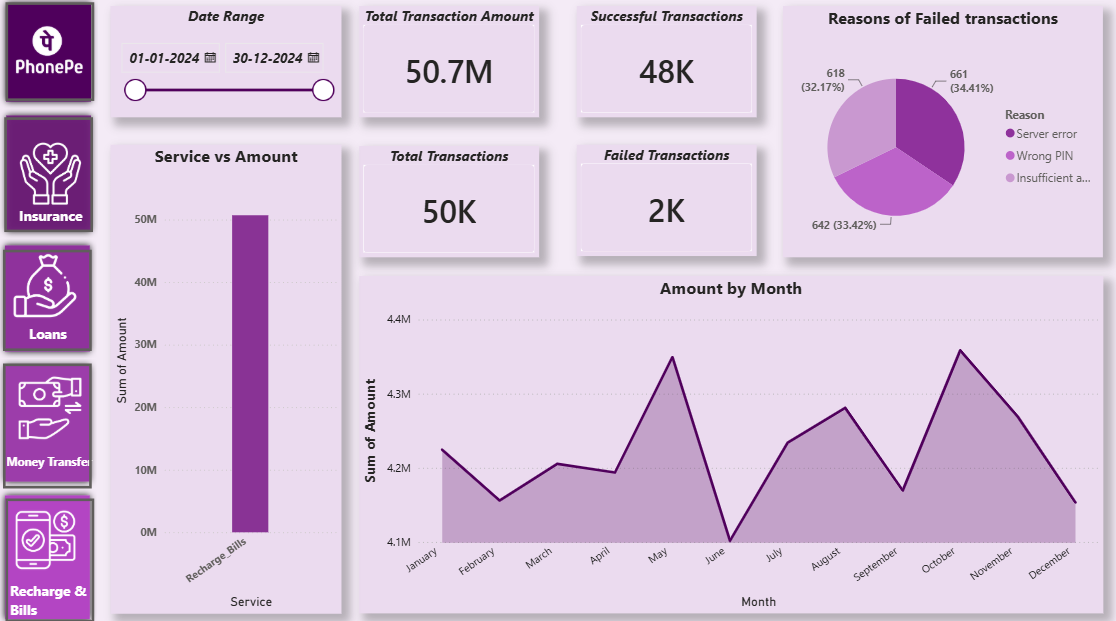

What the dashboard file says about the page in this screenshot:
{"tool":"powerbi","page":{"name":"Home","canvas":[1280,720],"ordinal":0},"visuals":[{"type":"shape","box":[1.4,0,112.9,128.6],"z":0,"group":"g4"},{"type":"slicer","title":"Date Range","fields":{"Values":["All_Transactions.Date"]},"box":[128.6,11.4,264.3,127.1],"z":0},{"type":"cardVisual","title":"Total Transaction Amount","fields":{"Data":["Sum(All_Transactions.Amount)"]},"box":[412.9,11.4,205.7,127.1],"z":1000},{"type":"shape","box":[1.4,128.6,112.9,148.6],"z":1000,"group":"g1"},{"type":"cardVisual","title":"Total Transactions","fields":{"Data":["Count(All_Transactions.Transaction_ID)"]},"box":[412.9,171.4,205.7,127.1],"z":2000},{"type":"shape","box":[0,277.1,112.9,137.1],"z":2000,"group":"g2"},{"type":"cardVisual","title":"Successful Transactions","fields":{"Data":["Count(All_Transactions.Transaction_ID)"]},"box":[661.4,11.4,205.7,127.1],"z":3000},{"type":"shape","box":[0,414.3,112.9,148.6],"z":3000,"group":"g5"},{"type":"cardVisual","title":"Failed Transactions","fields":{"Data":["Count(All_Transactions.Transaction_ID)"]},"box":[661.4,170,205.7,127.1],"z":4000},{"type":"shape","box":[0,562.9,112.9,157.1],"z":4000,"group":"g3"},{"type":"pieChart","title":"Reasons of Failed transactions","fields":{"Category":["All_Transactions.Reason"],"Y":["CountNonNull(All_Transactions.Reason)"]},"box":[897.1,11.4,365.7,287.1],"z":5000},{"type":"image","box":[17.1,152.9,85.7,100],"z":5000,"group":"g1"},{"type":"image","box":[14.3,290,81.4,80],"z":6000,"group":"g2"},{"type":"lineChart","title":"Amount by Month","fields":{"Category":["All_Transactions.Date.Variation.Date Hierarchy.Month"],"Y":["Sum(All_Transactions.Amount)"]},"box":[412.9,320,850,385.7],"z":6000},{"type":"group","id":"g1","title":"Group 1","box":[1.4,128.6,150,148.6],"z":7000},{"type":"image","box":[14.3,580,80,82.9],"z":7000,"group":"g3"},{"type":"image","box":[17.7,7.8,82.2,112.2],"z":8000,"group":"g4"},{"type":"group","id":"g2","title":"Group 2","box":[0,277.1,167.1,137.1],"z":8000},{"type":"group","id":"g3","title":"Group 4","box":[0,170,392.9,550],"z":9000},{"type":"image","box":[18.6,427.1,81.4,87.1],"z":9000,"group":"g5"},{"type":"group","id":"g4","title":"Group 5","box":[1.4,0,112.9,128.6],"z":10000},{"type":"textbox","box":[1.4,234.3,150,35.7],"z":10000,"group":"g1"},{"type":"actionButton","box":[7.1,138.6,101.4,131.4],"z":11000},{"type":"textbox","box":[8.6,662.9,101.4,52.9],"z":11000,"group":"g3"},{"type":"actionButton","box":[5.7,290,101.4,115.7],"z":12000},{"type":"textbox","box":[0,514.3,167.1,35.7],"z":12000,"group":"g5"},{"type":"textbox","box":[17.1,370,150,35.7],"z":13000,"group":"g2"},{"type":"actionButton","box":[5.7,420,101.4,142.9],"z":13000},{"type":"actionButton","box":[8.6,574.3,101.4,141.4],"z":14000},{"type":"columnChart","title":"Service vs Amount","fields":{"Category":["All_Transactions.Service"],"Y":["Sum(All_Transactions.Amount)"]},"box":[128.6,170,264.3,535.7],"z":21000,"group":"g5"},{"type":"group","id":"g5","title":"Group 3","box":[0,170,392.9,535.7],"z":21003,"group":"g3"},{"type":"actionButton","box":[7.9,7.1,101.4,112.9],"z":21006,"group":"g4"}]}

Visuals, with their boxes in screenshot pixels (x1, y1, x2, y2), scaled from the page's 1280x720 canvas onto the 1116x621 screenshot:
shape: x1=1 y1=0 x2=100 y2=111
"Date Range" slicer: x1=112 y1=10 x2=343 y2=119
"Total Transaction Amount" cardVisual: x1=360 y1=10 x2=539 y2=119
shape: x1=1 y1=111 x2=100 y2=239
"Total Transactions" cardVisual: x1=360 y1=148 x2=539 y2=257
shape: x1=0 y1=239 x2=98 y2=357
"Successful Transactions" cardVisual: x1=577 y1=10 x2=756 y2=119
shape: x1=0 y1=357 x2=98 y2=486
"Failed Transactions" cardVisual: x1=577 y1=147 x2=756 y2=256
shape: x1=0 y1=486 x2=98 y2=620
"Reasons of Failed transactions" pieChart: x1=782 y1=10 x2=1101 y2=257
image: x1=15 y1=132 x2=90 y2=218
image: x1=12 y1=250 x2=83 y2=319
"Amount by Month" lineChart: x1=360 y1=276 x2=1101 y2=609
"Group 1" group: x1=1 y1=111 x2=132 y2=239
image: x1=12 y1=500 x2=82 y2=572
image: x1=15 y1=7 x2=87 y2=104
"Group 2" group: x1=0 y1=239 x2=146 y2=357
"Group 4" group: x1=0 y1=147 x2=343 y2=620
image: x1=16 y1=368 x2=87 y2=443
"Group 5" group: x1=1 y1=0 x2=100 y2=111
textbox: x1=1 y1=202 x2=132 y2=233
actionButton: x1=6 y1=120 x2=95 y2=233
textbox: x1=7 y1=572 x2=96 y2=617
actionButton: x1=5 y1=250 x2=93 y2=350
textbox: x1=0 y1=444 x2=146 y2=474
textbox: x1=15 y1=319 x2=146 y2=350
actionButton: x1=5 y1=362 x2=93 y2=486
actionButton: x1=7 y1=495 x2=96 y2=617
"Service vs Amount" columnChart: x1=112 y1=147 x2=343 y2=609
"Group 3" group: x1=0 y1=147 x2=343 y2=609
actionButton: x1=7 y1=6 x2=95 y2=104
